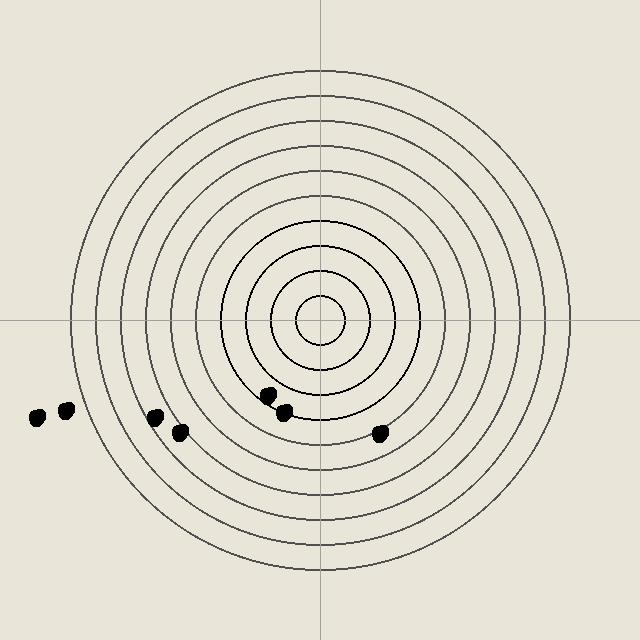horizontal_scatter: (55, 400, 75, 420), (26, 407, 46, 427), (169, 422, 189, 442), (273, 402, 293, 422), (257, 385, 277, 405), (369, 423, 389, 443), (144, 407, 164, 427)
